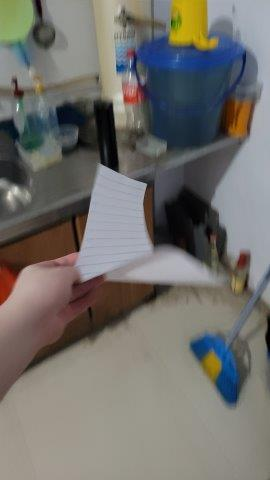kertas: (67, 164, 229, 300)
